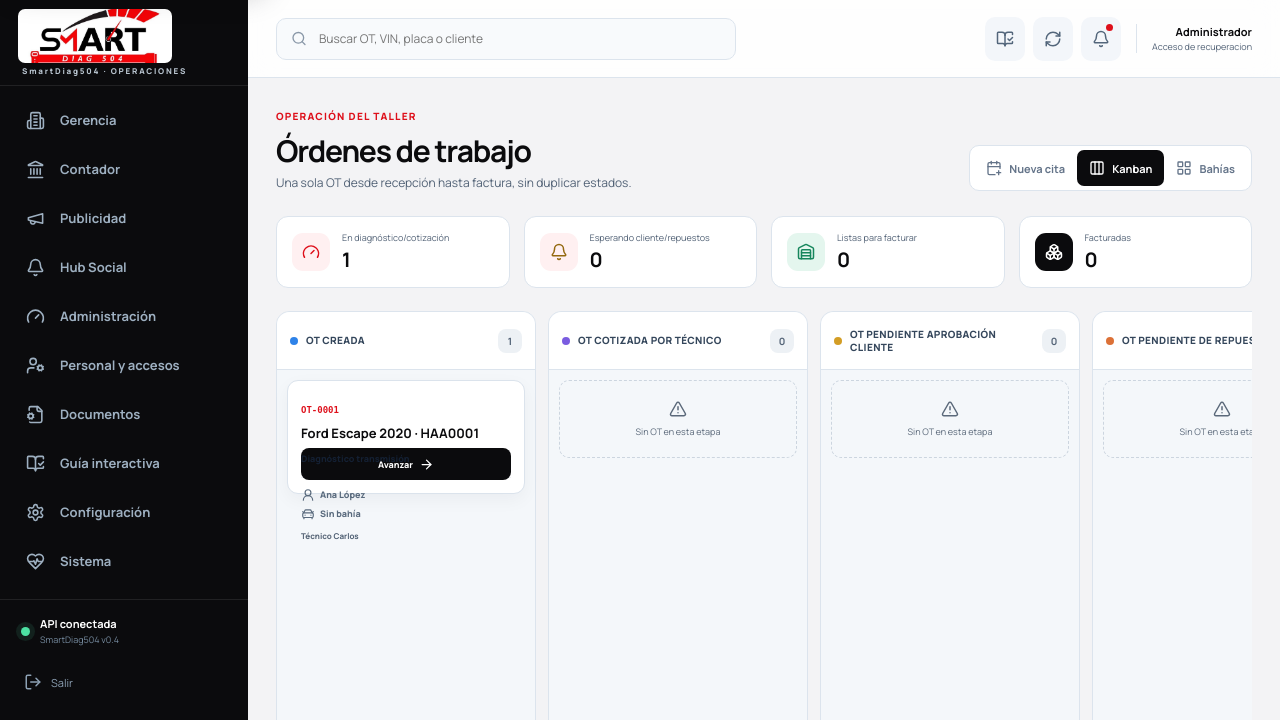
Test: SmartDiag504 operations › opens staff, role and access administration
(page scrolled)
Step 1. Click the button "Personal y accesos" → {"x": 124, "y": 365}, box [13,343,235,387]
(page scrolled)
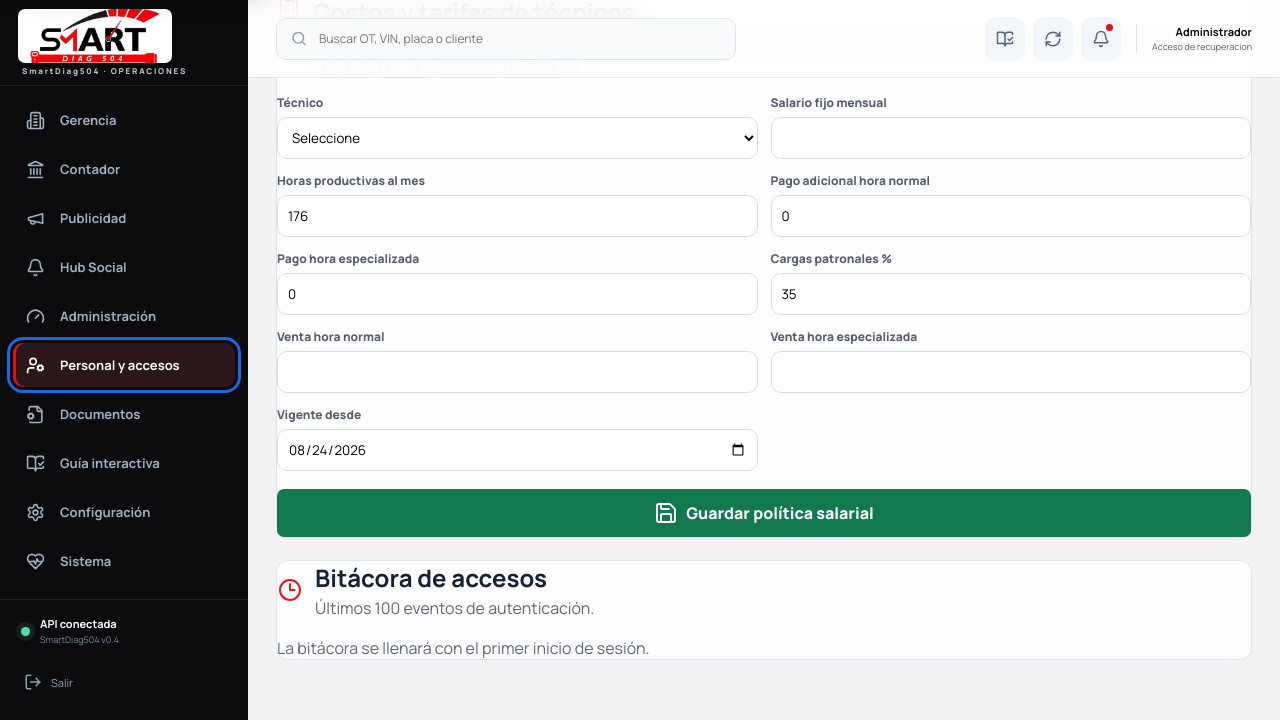
Check: the heading "Bitácora de accesos" is shown, box [315,561,547,594]
